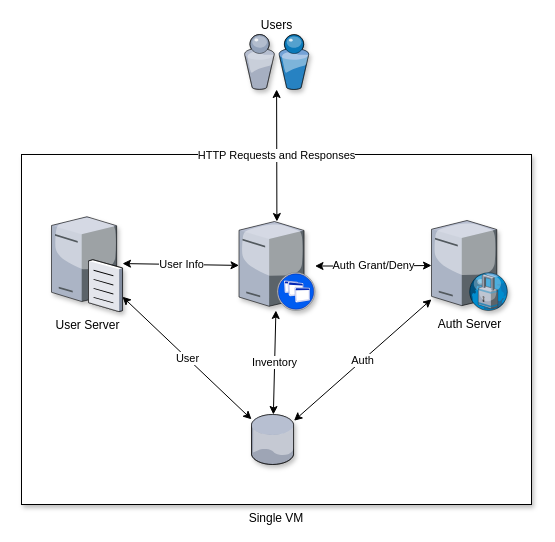
Image size: 555x542. Some labels were removed from this diagram. Here are the shapes that lost their labels. From the top down, the centre of each, then its label:
At [277,267]: "Store App".
At [273,440]: "Monolithic Database".
